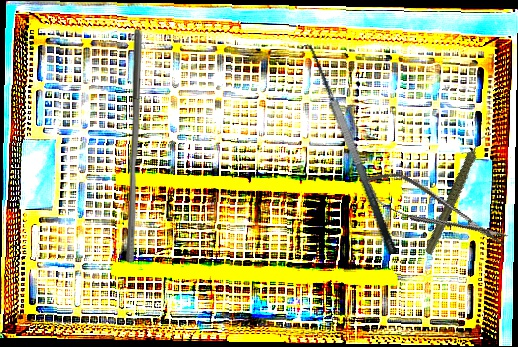Handpiece: (403, 133, 510, 257)
Micro Scissor: (358, 161, 513, 261)
Pusher: (125, 29, 142, 263)
Spatula Surgical: (292, 39, 400, 262)
